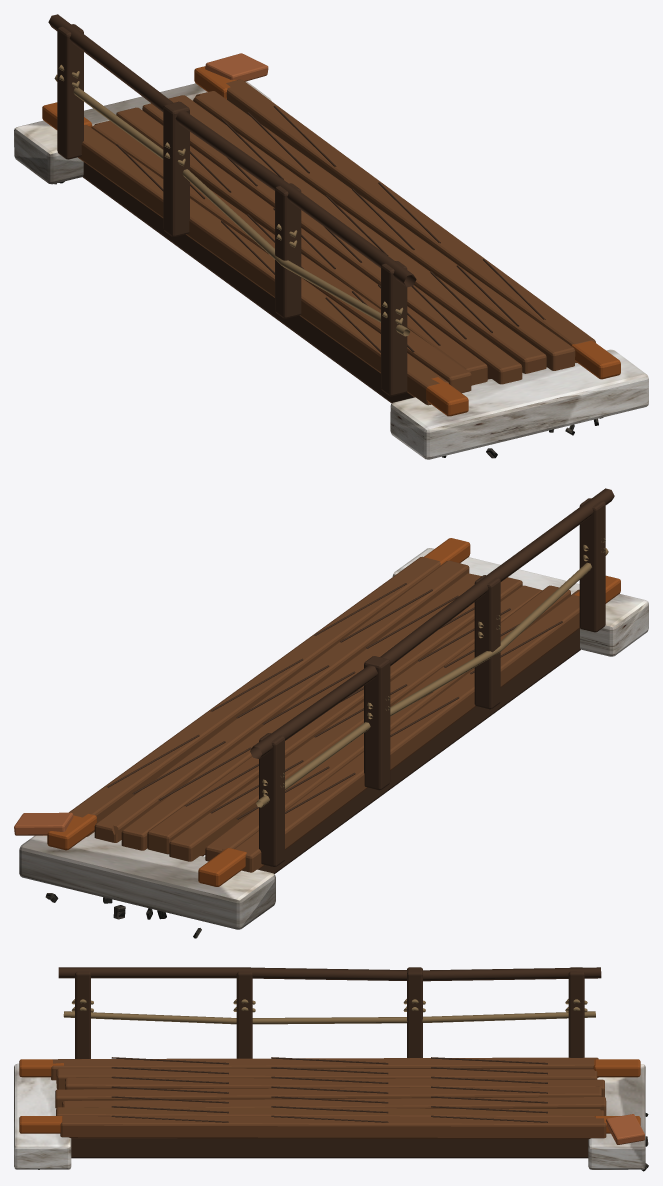
The model's file is rooftop_bridge_plank_LOD0.glb.
3 views of the same model, one above another, from view 1: azimuth 30°, elevation 25°; view 2: azimuth 150°, elevation 25°; view 3: azimuth 270°, elevation 25° (orthographic). The views are drawn at different scales.
Parts seen in each view (by area): view 1: RoofBridgeAnchor, RoofBridgeBoard, RoofBridgeBoard.005, RoofBridgeBoard.006, RoofBridgeBoard.002, RoofBridgeBoard.004, RoofBridgeBoard.003, RoofBridgeHandrail, RoofBridgeStringer, RoofBridgeBoard.001, RoofBridgeAnchor.001, RoofBridgeRailPost.002 (+8 smaller); view 2: RoofBridgeAnchor.001, RoofBridgeBoard, RoofBridgeBoard.005, RoofBridgeBoard.006, RoofBridgeBoard.002, RoofBridgeBoard.004, RoofBridgeHandrail, RoofBridgeBoard.003, RoofBridgeStringer, RoofBridgeBoard.001, RoofBridgeAnchor, RoofBridgeRailPost.002 (+8 smaller); view 3: RoofBridgeBoard.006, RoofBridgeStringer.001, RoofBridgeBoard.003, RoofBridgeHandrail, RoofBridgeBoard, RoofBridgeBoard.001, RoofBridgeBoard.004, RoofBridgeBoard.002, RoofBridgeBoard.005, RoofBridgeAnchor, RoofBridgeAnchor.001, RoofBridgeRopeRail (+8 smaller).
Boxes of the visible parts, x1,y1,x2,y2 form: RoofBridgeAnchor: [390, 349, 648, 459]; RoofBridgeBoard: [78, 125, 448, 405]; RoofBridgeBoard.005: [192, 91, 575, 370]; RoofBridgeBoard.006: [226, 79, 595, 362]; RoofBridgeBoard.002: [116, 107, 487, 385]; RoofBridgeBoard.004: [168, 95, 546, 373]; RoofBridgeBoard.003: [142, 103, 522, 384]; RoofBridgeHandrail: [48, 14, 416, 287]; RoofBridgeStringer: [82, 162, 413, 403]; RoofBridgeBoard.001: [91, 120, 471, 393]; RoofBridgeAnchor.001: [14, 81, 271, 184]; RoofBridgeRailPost.002: [163, 101, 189, 236]; RoofBridgeAnchor.001: [19, 832, 275, 929]; RoofBridgeBoard: [234, 589, 579, 872]; RoofBridgeBoard.005: [94, 560, 469, 842]; RoofBridgeBoard.006: [69, 556, 440, 836]; RoofBridgeBoard.002: [169, 585, 542, 861]; RoofBridgeBoard.004: [121, 573, 481, 850]; RoofBridgeHandrail: [250, 488, 614, 758]; RoofBridgeBoard.003: [147, 577, 522, 854]; RoofBridgeStringer: [259, 628, 580, 873]; RoofBridgeBoard.001: [205, 585, 570, 861]; RoofBridgeAnchor: [392, 548, 648, 656]; RoofBridgeRailPost.002: [364, 656, 390, 790]; RoofBridgeBoard.006: [60, 1116, 606, 1139]; RoofBridgeStringer.001: [71, 1138, 588, 1158]; RoofBridgeBoard.003: [55, 1086, 601, 1108]; RoofBridgeHandrail: [58, 967, 601, 981]; RoofBridgeBoard: [51, 1057, 598, 1080]; RoofBridgeBoard.001: [56, 1068, 597, 1089]; RoofBridgeBoard.004: [62, 1097, 606, 1115]; RoofBridgeBoard.002: [65, 1077, 604, 1096]; RoofBridgeBoard.005: [56, 1107, 604, 1116]; RoofBridgeAnchor: [14, 1063, 71, 1169]; RoofBridgeAnchor.001: [588, 1064, 645, 1169]; RoofBridgeRopeRail: [63, 1011, 595, 1024].
Bounding box in the file's own units: 1.97 × 1.43 × 5.97.
7 materials, 2 textured.
